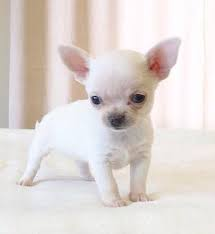chihuahua: (7, 31, 194, 211)
